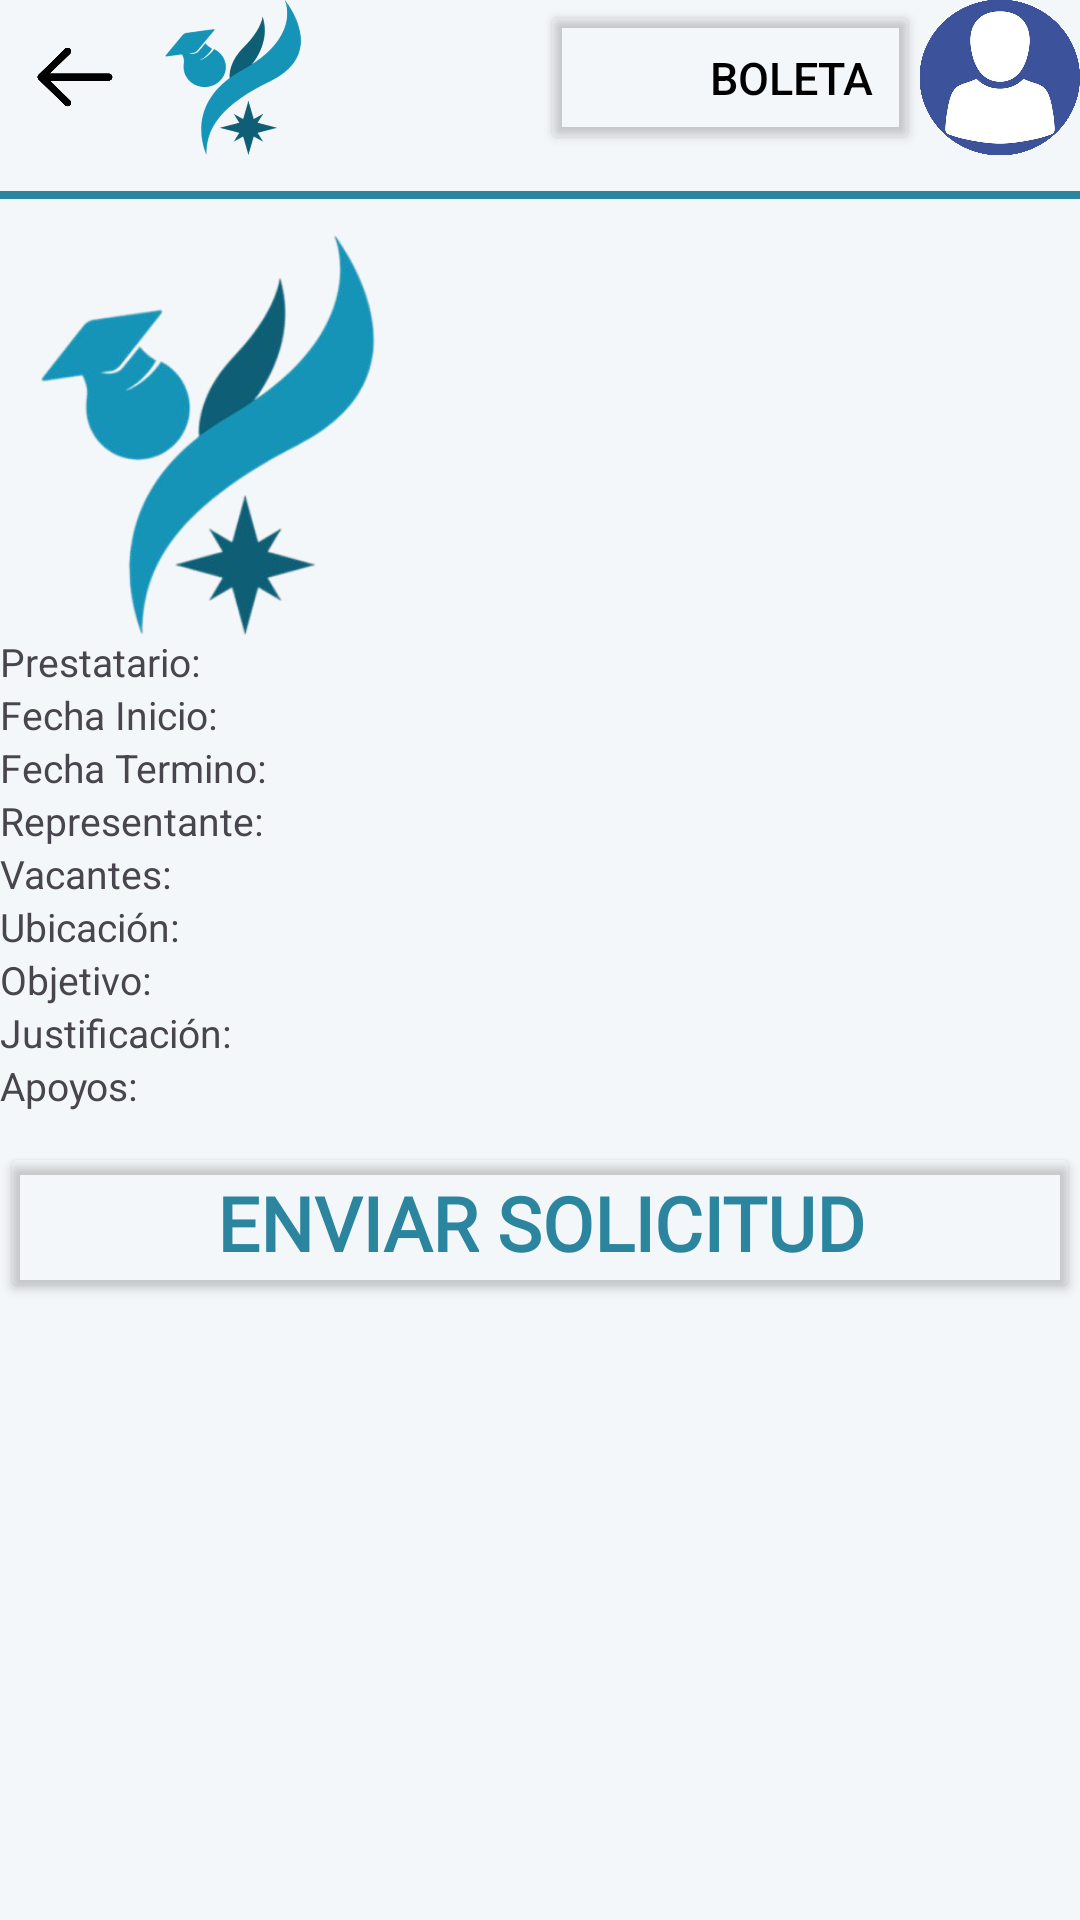

Where to tap for icons on this 1080px x 1920px app screen, as [x,y]:
prederterminada: [1000,77]
regresar: [75,77]
